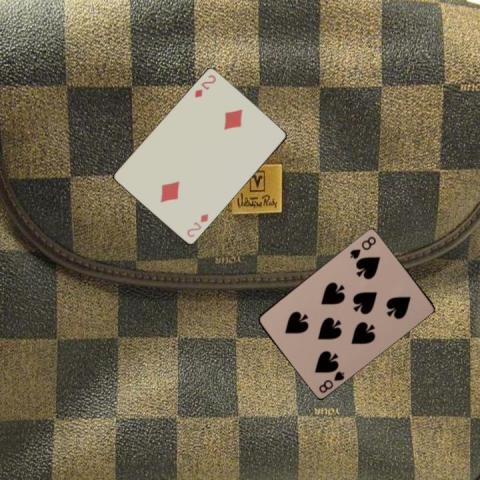2d: (183, 212, 210, 240), (192, 72, 218, 99)
8s: (347, 233, 377, 260), (315, 368, 346, 394)
